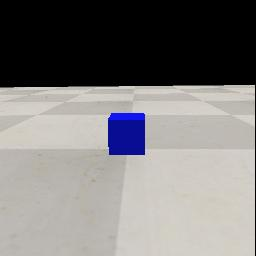box: (108, 113, 145, 155)
